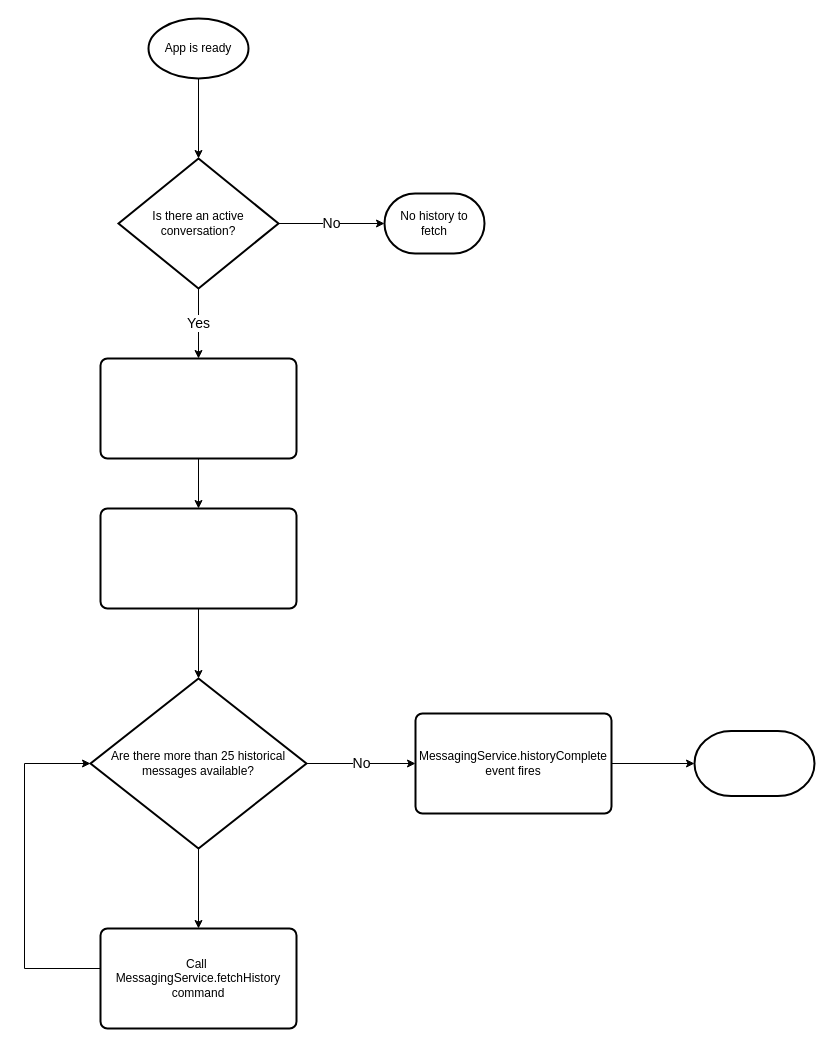
Some shapes in this 833 by 1046 pixel diagram are drawn without their labels. Each missing label, with the centre of its shape:
"Historical messages loaded into chat window" belongs at point 198,558.
"MessagingService.restored event fired" belongs at point 198,408.
"No more historical messages" belongs at point 754,763.
